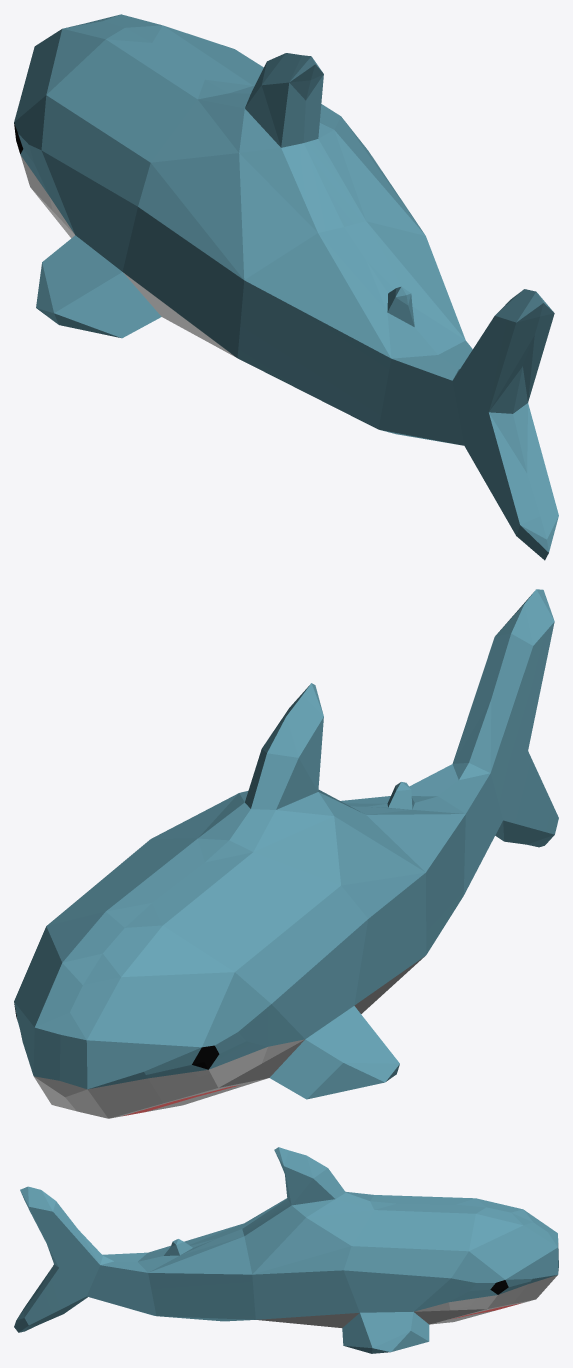
File: blahaj.obj
3 renders of one model, top to bottom at view 1: azimuth 30°, elevation 25°; view 2: azimuth 150°, elevation 25°; view 3: azimuth 270°, elevation 25°, orthographic. The views are drawn at different scales.
Visible parts, largest first — view 1: Plane_Plane.001; view 2: Plane_Plane.001; view 3: Plane_Plane.001.
Part boxes in pixels (box(x1,y1,x2,y2)): Plane_Plane.001: box(14, 14, 558, 560); Plane_Plane.001: box(14, 589, 558, 1118); Plane_Plane.001: box(14, 1147, 558, 1353).
Bounding box in the file's own units: 2.43 × 2.22 × 5.9.
